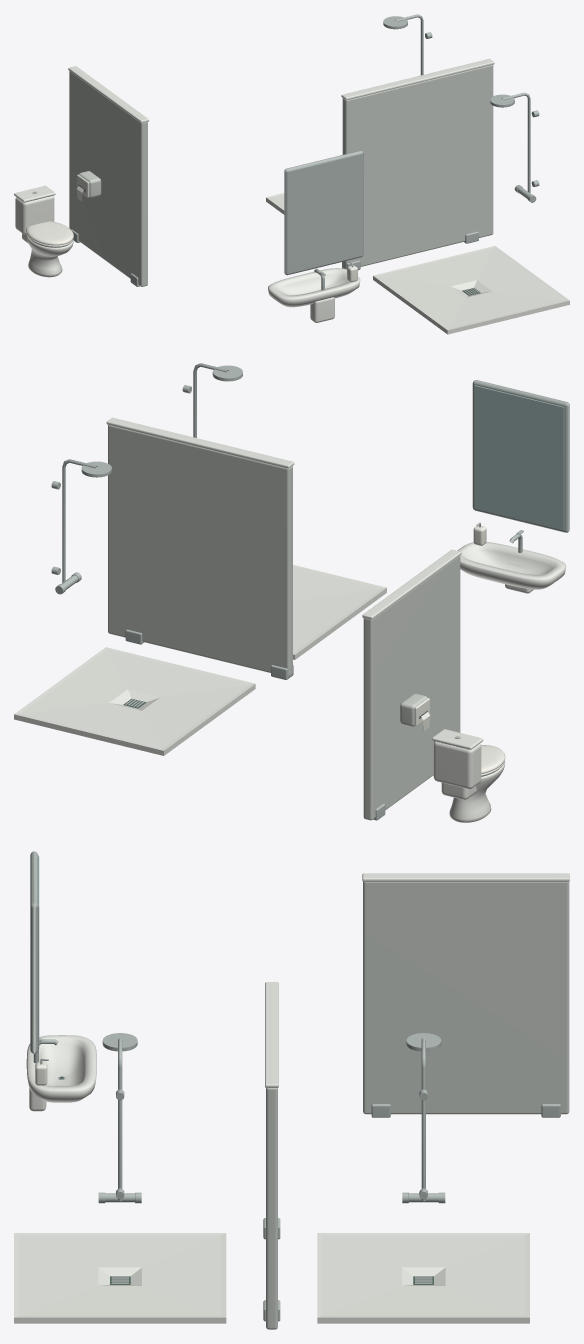
File: bathroom.glb
3 renders of one model, top to bottom at view 1: azimuth 30°, elevation 25°; view 2: azimuth 150°, elevation 25°; view 3: azimuth 270°, elevation 25°, orthographic. The views are drawn at different scales.
Parts seen in each view (by area): view 1: Warm grey partitions — shared batch, Warm white ceramic — shared batch, Satin metal — shared batch, Paper and ivory fittings — shared batch; view 2: Warm grey partitions — shared batch, Warm white ceramic — shared batch, Static mirror glass — shared batch, Satin metal — shared batch, Paper and ivory fittings — shared batch; view 3: Warm grey partitions — shared batch, Warm white ceramic — shared batch, Satin metal — shared batch.
Part boxes in pixels (<box>): Warm grey partitions — shared batch: <box>69,64,493,286</box>; Warm white ceramic — shared batch: <box>14,58,569,334</box>; Satin metal — shared batch: <box>33,14,539,295</box>; Paper and ivory fittings — shared batch: <box>26,174,357,282</box>; Warm grey partitions — shared batch: <box>108,425,460,820</box>; Warm white ceramic — shared batch: <box>14,417,566,822</box>; Static mirror glass — shared batch: <box>474,385,564,530</box>; Satin metal — shared batch: <box>51,363,569,820</box>; Paper and ivory fittings — shared batch: <box>414,525,505,775</box>; Warm grey partitions — shared batch: <box>266,881,569,1329</box>; Warm white ceramic — shared batch: <box>14,873,569,1323</box>; Satin metal — shared batch: <box>30,851,560,1321</box>.
Size of the model in its own units: 5.26 by 2.56 by 4.58.
